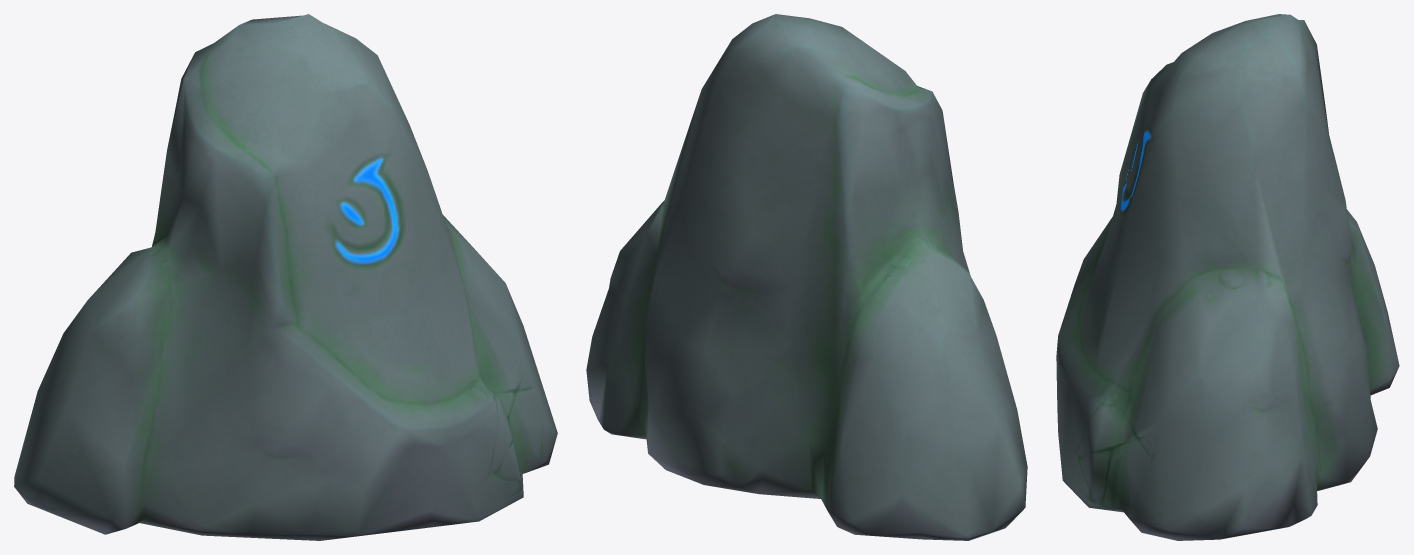
File: meetingStone_edit_for_FBX.fbx
3 renders of one model, left to right at view 1: azimuth 30°, elevation 25°; view 2: azimuth 150°, elevation 25°; view 3: azimuth 270°, elevation 25°, orthographic. The views are drawn at different scales.
Parts seen in each view (by area): view 1: meetingStone; view 2: meetingStone; view 3: meetingStone.
Part boxes in pixels (x1,y1,x2,y2): meetingStone: (14,14,557,540); meetingStone: (586,14,1027,540); meetingStone: (1056,14,1399,540).
Bounding box in the file's own units: 364 × 332 × 246.
